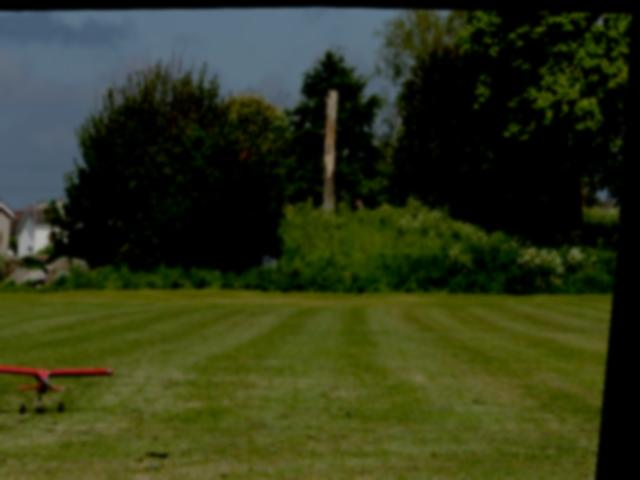plane: (0, 359, 124, 420)
